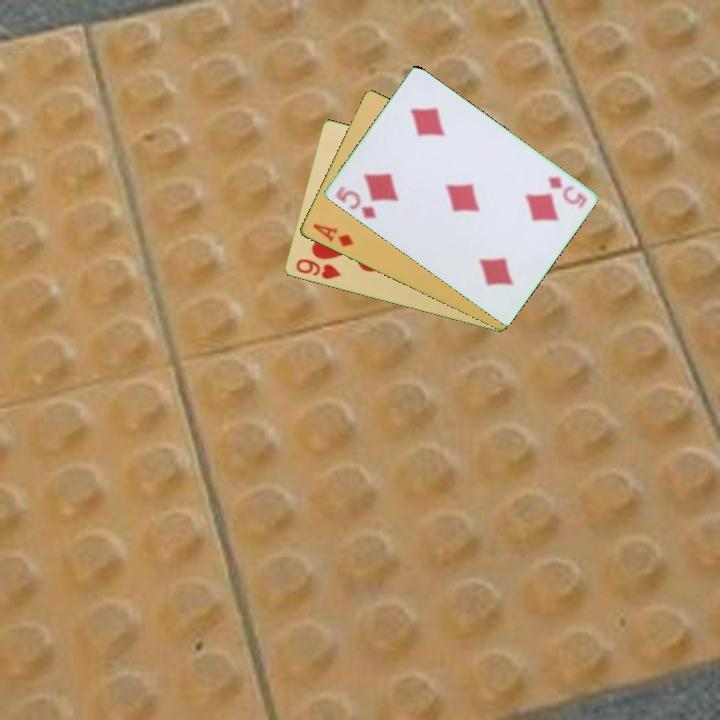5d: (331, 182, 379, 222), (544, 172, 589, 211)
9h: (292, 255, 343, 282)
Ad: (309, 220, 356, 250)
